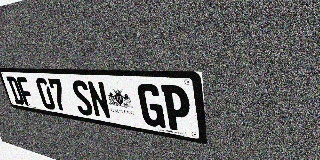0: (34, 78, 56, 110)
7: (47, 78, 69, 113)
D: (6, 76, 25, 105)
F: (16, 77, 36, 107)
G: (136, 83, 166, 128)
N: (86, 81, 112, 120)
P: (161, 85, 192, 133)
S: (70, 80, 95, 117)
